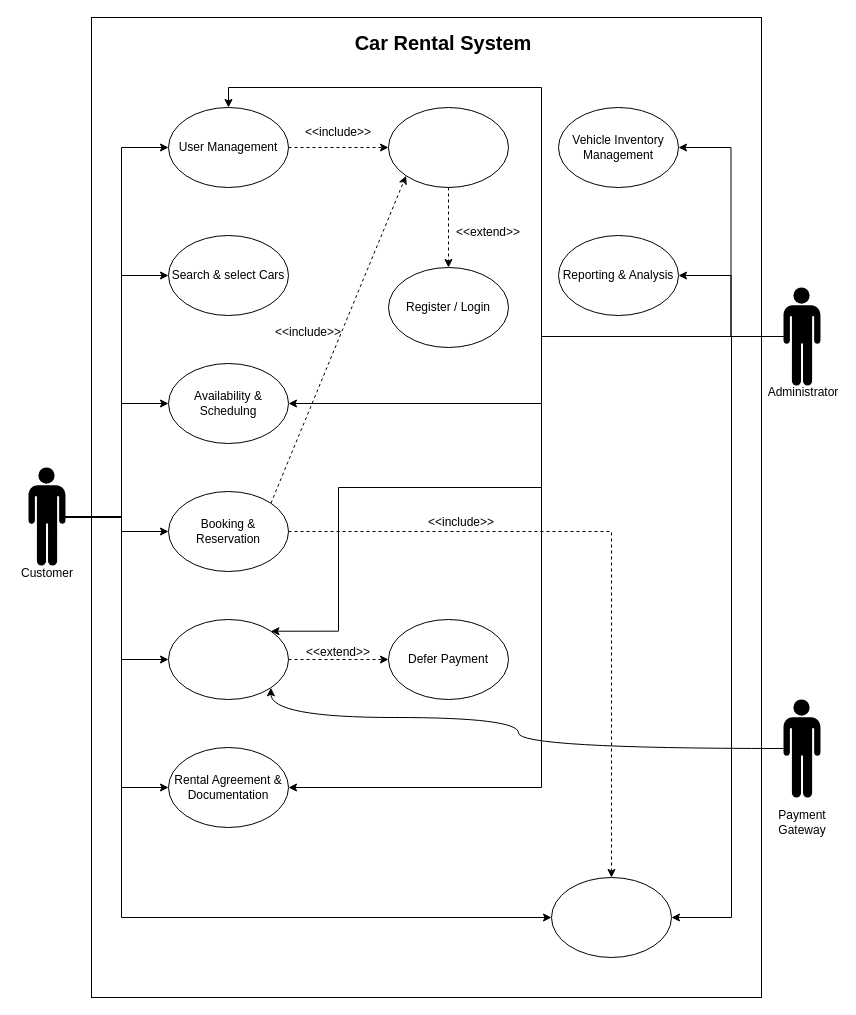
Some shapes in this 856 by 1015 pixel diagram are drawn without their labels. The centre of each missing label's shape, as x and y in pixels:
"Check Customer Records" goes at [448,147].
"Loyalty Program" goes at [611,917].
"Pricing & Payment Process" goes at [228,659].
